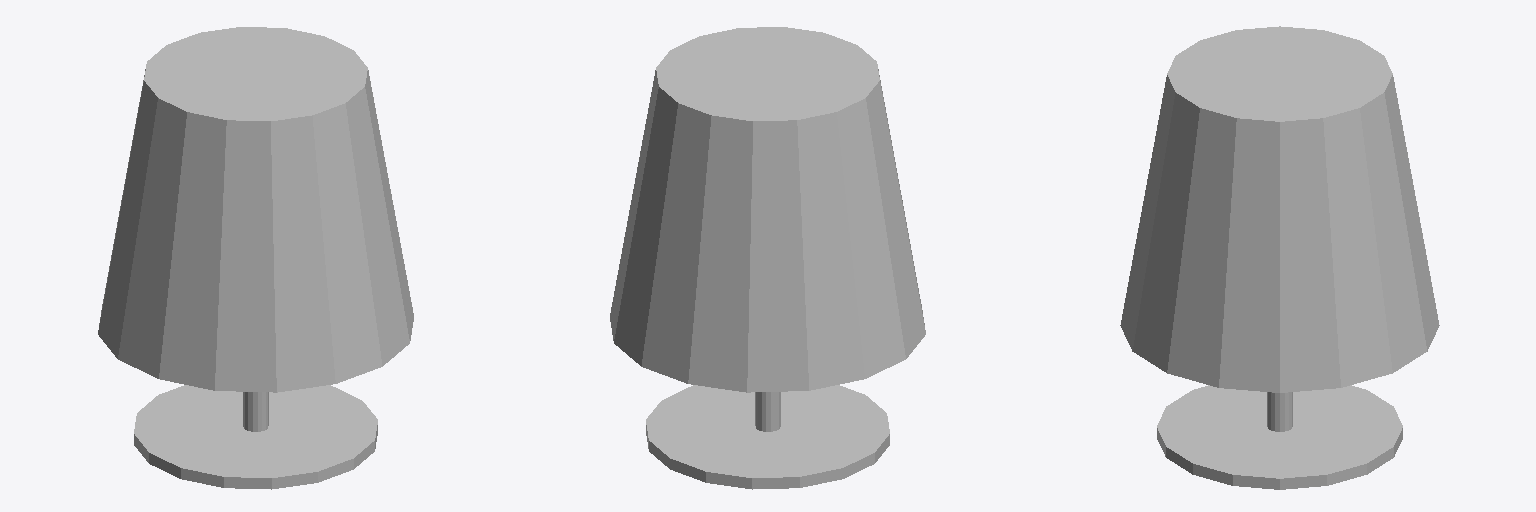
The model's file is lamp_1.obj.
3 renders of one model, left to right at view 1: azimuth 30°, elevation 25°; view 2: azimuth 150°, elevation 25°; view 3: azimuth 270°, elevation 25°, orthographic.
Visible parts, largest first — view 1: BezierCurve; view 2: BezierCurve; view 3: BezierCurve.
Boxes of the visible parts, box(x1,y1,x2,y2) form: BezierCurve: box(98, 27, 413, 489); BezierCurve: box(610, 27, 925, 489); BezierCurve: box(1120, 26, 1439, 489).
Size of the model in its own units: 2.59 by 3.26 by 2.59.